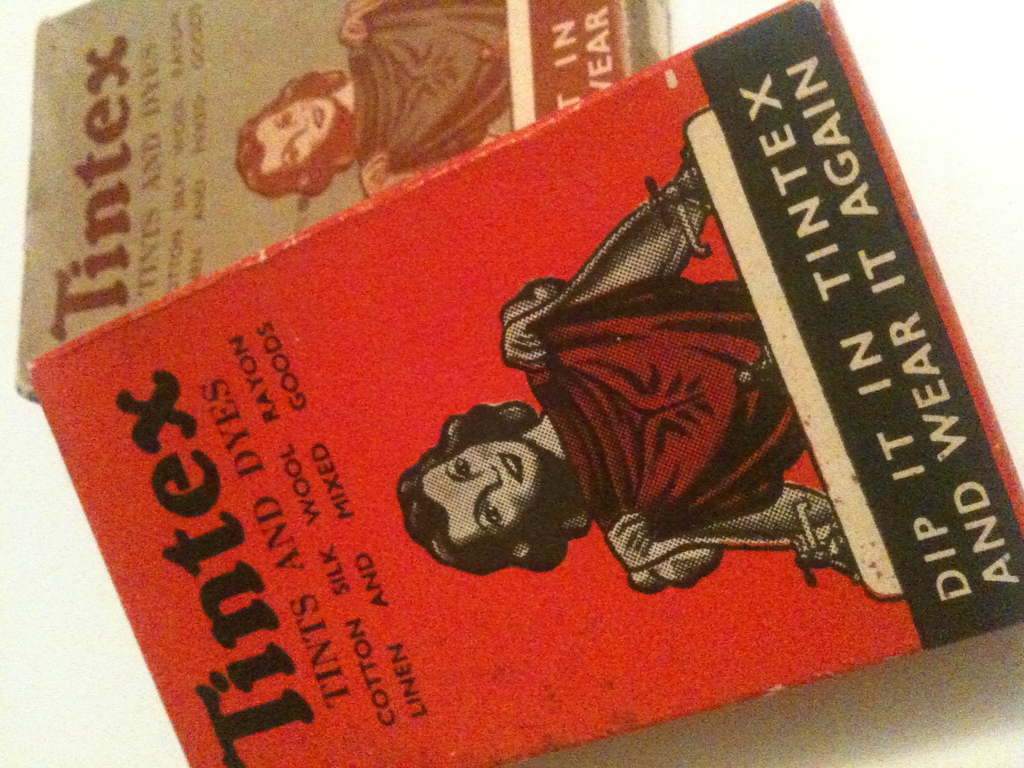Book: (130, 0, 1016, 761)
